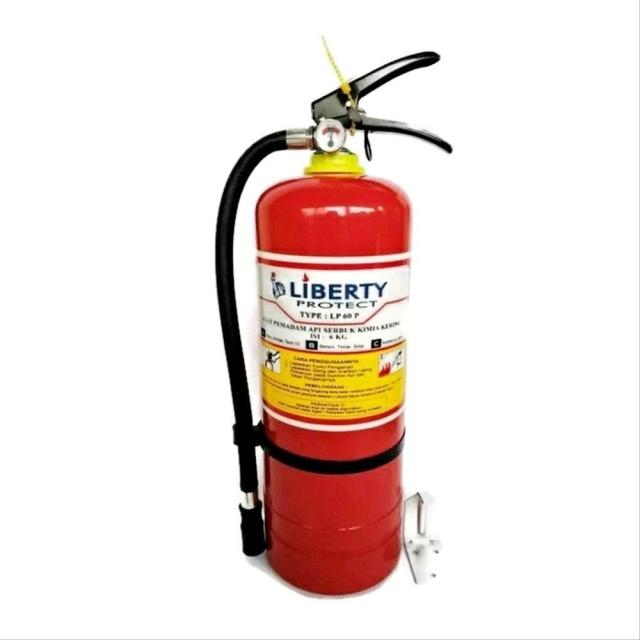fire_extinguisher: (207, 47, 457, 598)
